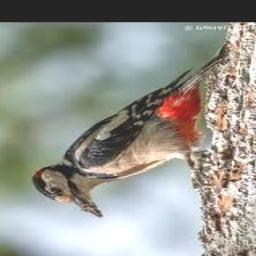Woodpecker: (32, 44, 229, 218)
